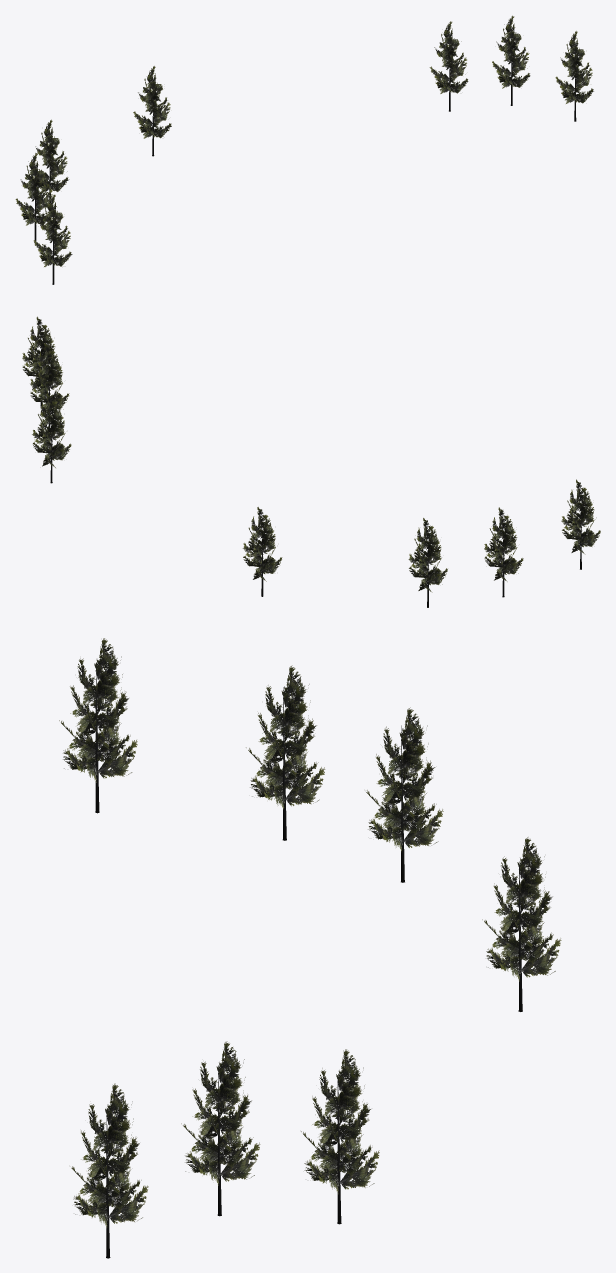
The model's file is trees_c.fbx.
3 views of the same model, one above another, from view 1: azimuth 30°, elevation 25°; view 2: azimuth 150°, elevation 25°; view 3: azimuth 270°, elevation 25° (orthographic). The views are drawn at different scales.
Visible parts, largest first — view 1: trees_c; view 2: trees_c; view 3: trees_c.
Part boxes in pixels (box(x1,y1,x2,y2)): trees_c: box(15, 15, 593, 284); trees_c: box(22, 316, 600, 607); trees_c: box(59, 638, 561, 1258).
Bounding box in the file's own units: 12910 × 2758 × 5108.
Materials: 2 (1 with a texture image).
